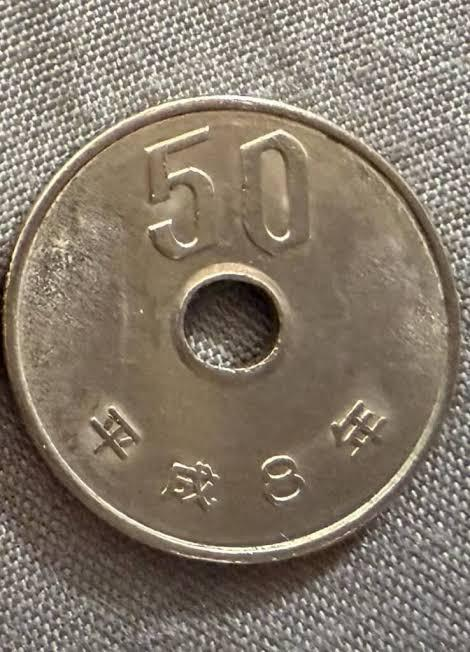year: (77, 397, 401, 512)
